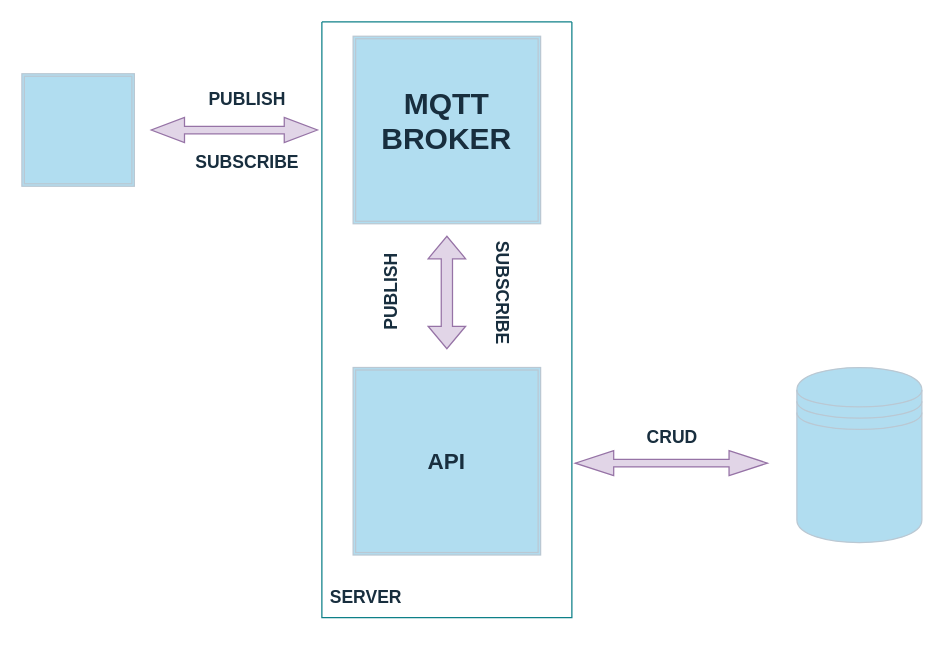
Image size: 944x656. Some labels were removed from this diagram. The box of each missing label's shape, as (x1, y1, x2, y2) in pixels:
DB: (796, 366, 922, 542)
RBOT's: (21, 72, 134, 186)
